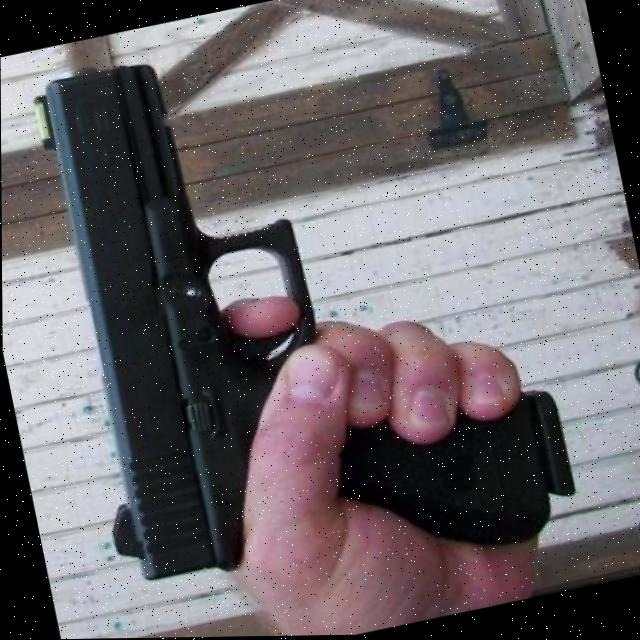pistol: (19, 29, 362, 596)
